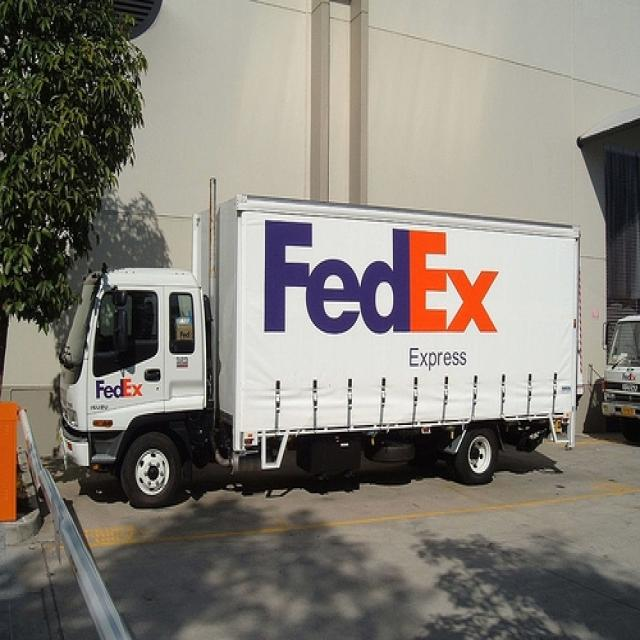fedex: (258, 213, 504, 337)
